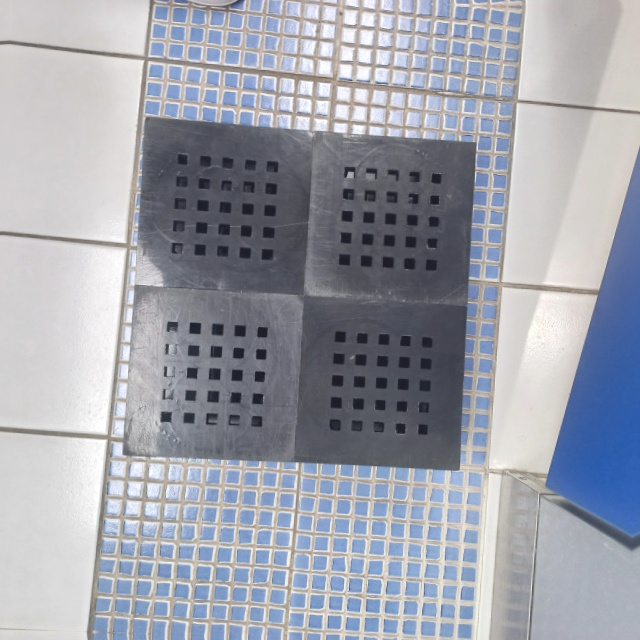pallet: (122, 113, 476, 478)
